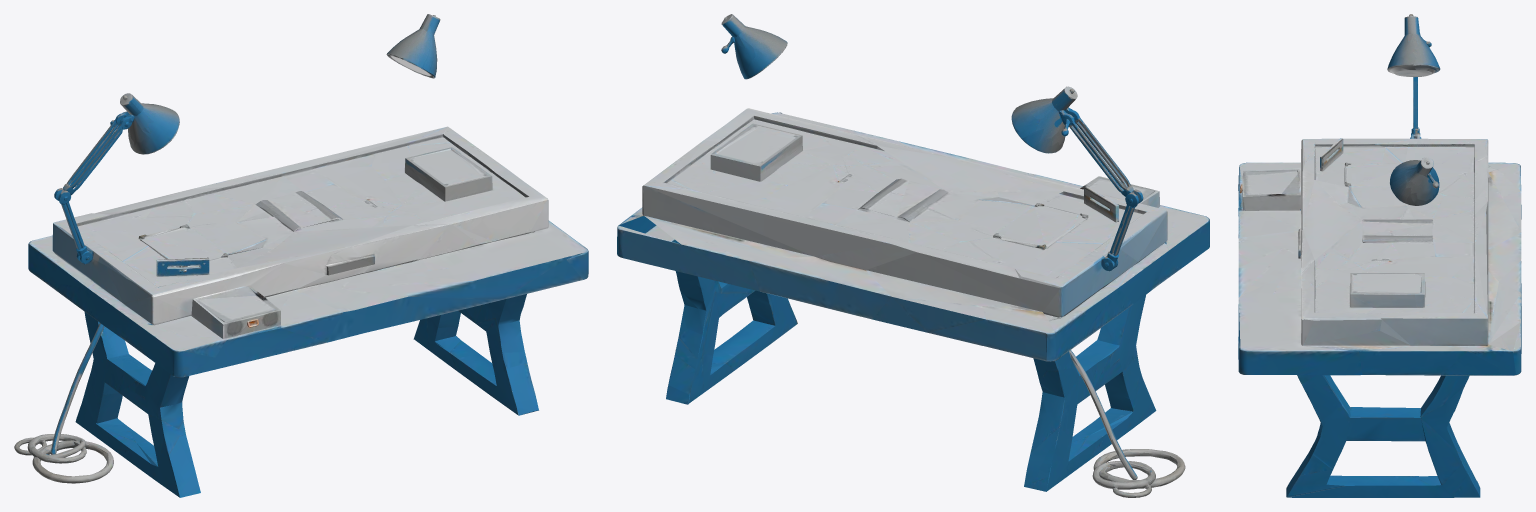
The model's file is evidence-table.gltf.
3 renders of one model, left to right at view 1: azimuth 30°, elevation 25°; view 2: azimuth 150°, elevation 25°; view 3: azimuth 270°, elevation 25°, orthographic. The views are drawn at different scales.
Bounding box in the file's own units: 1.9 × 1.37 × 1.07.
1 material, 1 textured.
